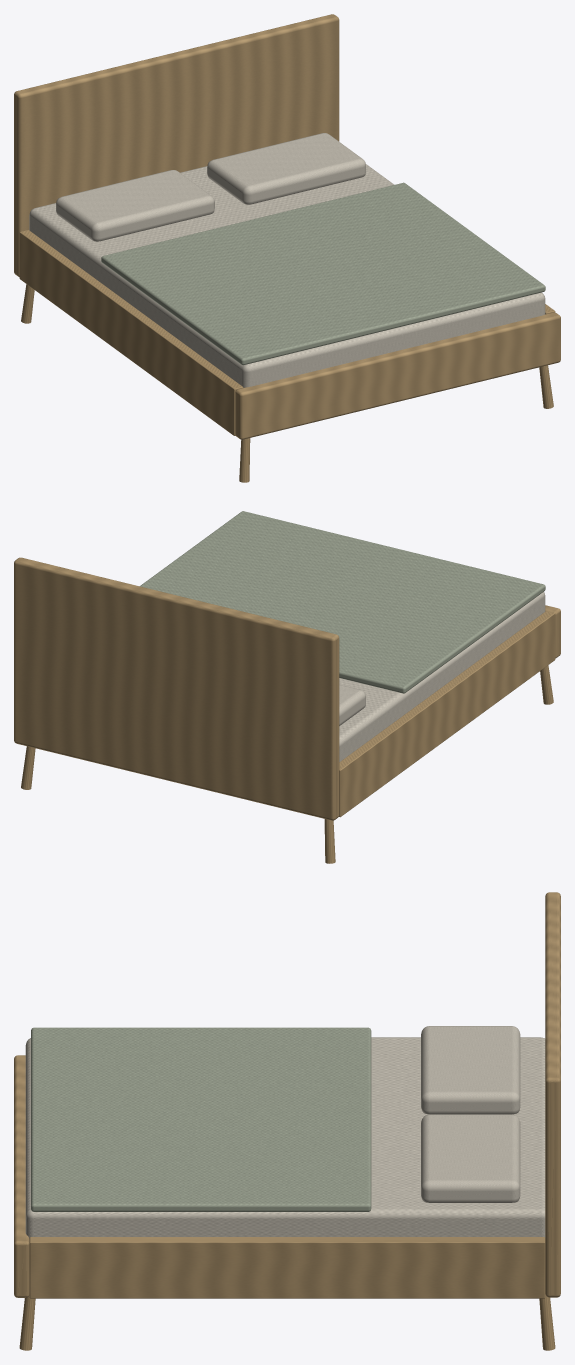
The model's file is tonstad.glb.
The picture shows the model from 3 angles, top to bottom: view 1: azimuth 30°, elevation 25°; view 2: azimuth 150°, elevation 25°; view 3: azimuth 270°, elevation 25°; orthographic projection. The views are drawn at different scales.
Parts seen in each view (by area): view 1: TONSTAD Bed frame 160 × 200; view 2: TONSTAD Bed frame 160 × 200; view 3: TONSTAD Bed frame 160 × 200.
Boxes of the visible parts, left/top/right/bottom form: TONSTAD Bed frame 160 × 200: left=14, top=14, right=560, bottom=482; TONSTAD Bed frame 160 × 200: left=14, top=511, right=560, bottom=863; TONSTAD Bed frame 160 × 200: left=14, top=892, right=560, bottom=1350.
Size of the model in its own units: 1.7 by 1.16 by 2.09.
3 materials, 3 textured.
